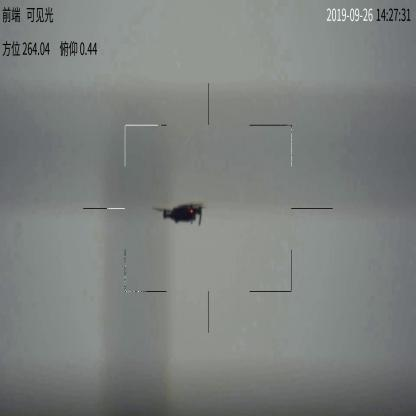uav: (157, 201, 210, 230)
